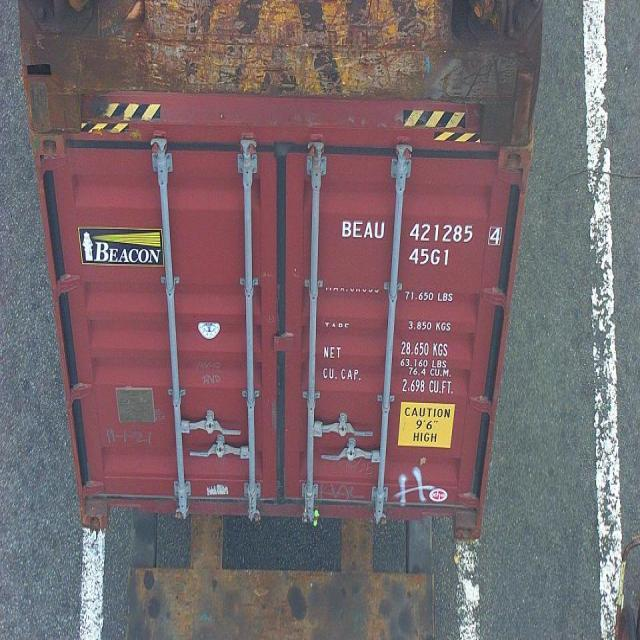ISO: (410, 248, 450, 266)
container_number: (346, 222, 506, 244)
